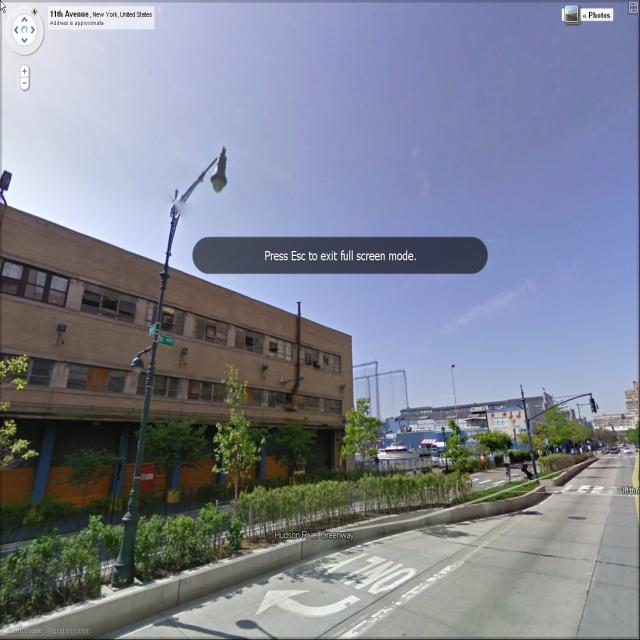b_1: (1, 206, 354, 454), (395, 401, 570, 441), (588, 409, 640, 449), (624, 385, 640, 409)
